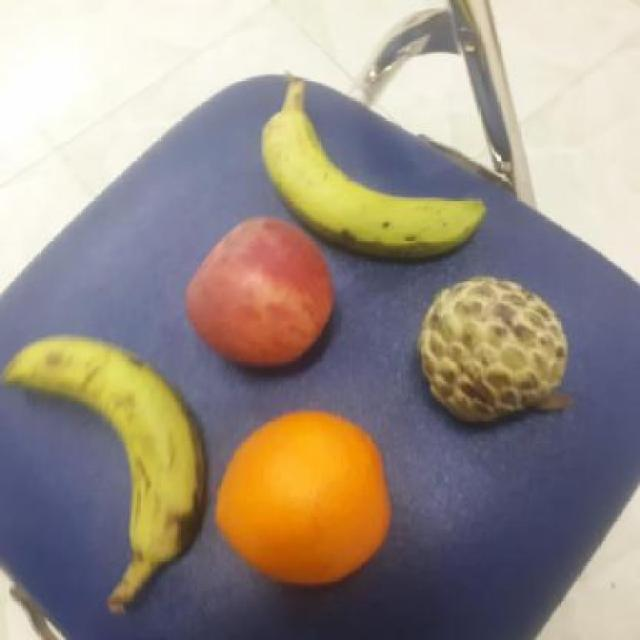apple: (177, 210, 337, 372)
banana: (0, 330, 209, 564), (254, 99, 491, 259)
oren: (208, 406, 390, 588)
sugar apple: (417, 274, 571, 428)
